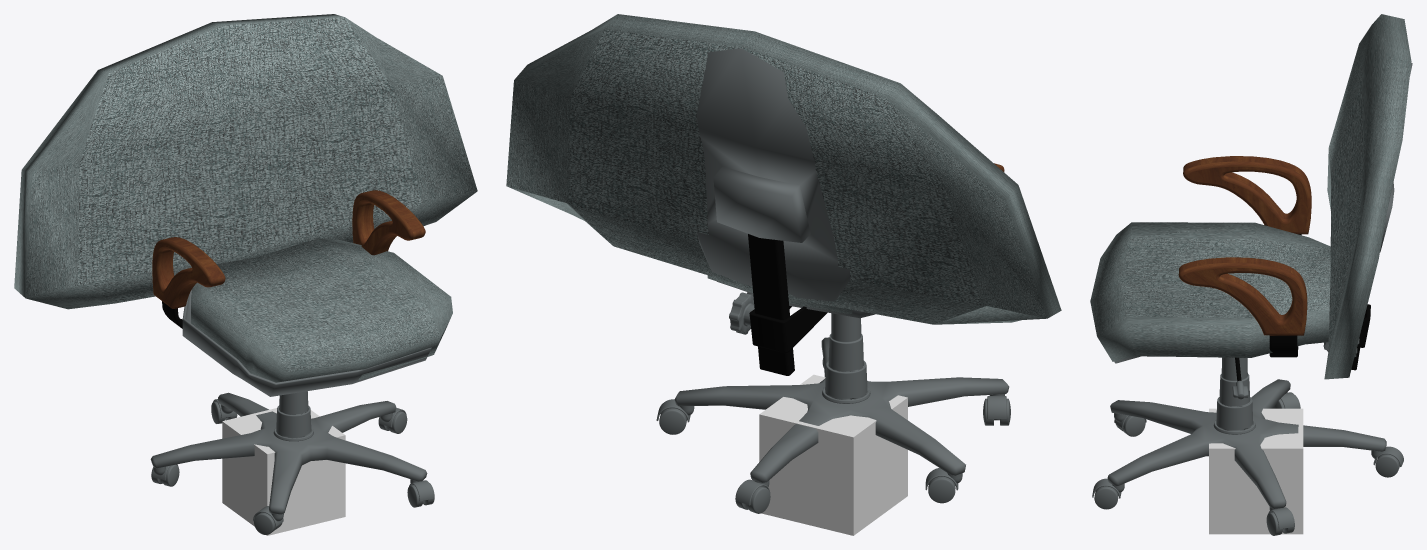
File: lasilla.glb
3 views of the same model, side by side, from view 1: azimuth 30°, elevation 25°; view 2: azimuth 150°, elevation 25°; view 3: azimuth 270°, elevation 25° (orthographic). The views are drawn at different scales.
Visible parts, largest first — view 1: Cube.001, Cube_2, Cylinder, Cube, Низ_сидения_3, Выдавливание, Cone, Закругление_1, Закругление_2, Шапка_1, Шапка_2; view 2: Cube.001, Низ_сидения, Cube, Cylinder, Стойка_спинки, Cone, Extrude_NURBS_2, Ручка; view 3: Cube_2, Cube.001, Cylinder, Cube, Закругление_1, Выдавливание, Закругление_2, Cone, Шапка_1, Шапка_2, Симметрия_1, Oil_Tank_5 (+2 smaller).
Part boxes in pixels (bbox=[...]): Cube.001: bbox=[14, 14, 477, 309]; Cube_2: bbox=[191, 238, 452, 382]; Cylinder: bbox=[150, 392, 427, 514]; Cube: bbox=[222, 408, 345, 535]; Низ_сидения_3: bbox=[182, 289, 431, 396]; Выдавливание: bbox=[161, 190, 423, 308]; Cone: bbox=[273, 391, 313, 441]; Закругление_1: bbox=[152, 190, 425, 308]; Закругление_2: bbox=[171, 192, 413, 306]; Шапка_1: bbox=[152, 244, 208, 304]; Шапка_2: bbox=[352, 197, 408, 254]; Cube.001: bbox=[506, 14, 1061, 324]; Низ_сидения: bbox=[696, 48, 850, 301]; Cube: bbox=[759, 374, 907, 535]; Cylinder: bbox=[674, 337, 1009, 482]; Стойка_спинки: bbox=[748, 234, 794, 375]; Cone: bbox=[822, 313, 870, 403]; Extrude_NURBS_2: bbox=[749, 306, 827, 352]; Ручка: bbox=[729, 292, 754, 334]; Cube_2: bbox=[1090, 222, 1330, 361]; Cube.001: bbox=[1324, 14, 1411, 379]; Cylinder: bbox=[1107, 379, 1386, 508]; Cube: bbox=[1209, 408, 1303, 534]; Закругление_1: bbox=[1178, 156, 1307, 335]; Выдавливание: bbox=[1179, 156, 1311, 320]; Закругление_2: bbox=[1181, 161, 1311, 315]; Cone: bbox=[1213, 357, 1255, 434]; Шапка_1: bbox=[1182, 268, 1303, 333]; Шапка_2: bbox=[1187, 166, 1307, 232]; Симметрия_1: bbox=[1269, 234, 1301, 357]; Oil_Tank_5: bbox=[1094, 486, 1118, 509].
Size of the model in its own units: 11.54 by 10.72 by 6.82.
Materials: 6 (3 with a texture image).
